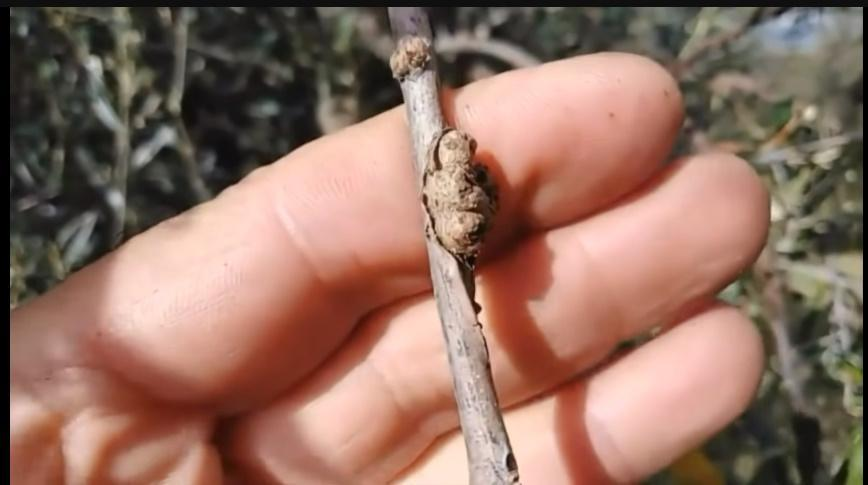Tuberculosis: (384, 31, 506, 269)
